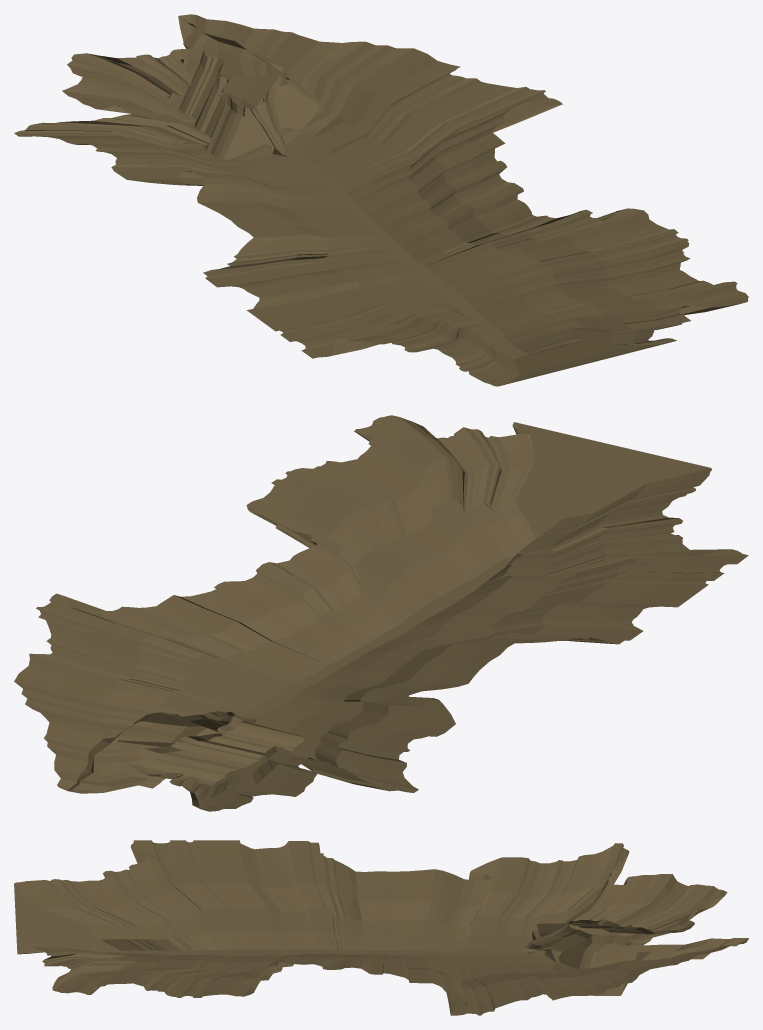
The model's file is montesinholayersDecim3.glb.
3 views of the same model, one above another, from view 1: azimuth 30°, elevation 25°; view 2: azimuth 150°, elevation 25°; view 3: azimuth 270°, elevation 25° (orthographic). The views are drawn at different scales.
Visible parts, largest first — view 1: Plane.002; view 2: Plane.002; view 3: Plane.002.
Part boxes in pixels (x1=…): Plane.002: x1=14, y1=14, x2=748, y2=386; Plane.002: x1=14, y1=415, x2=748, y2=811; Plane.002: x1=14, y1=840, x2=748, y2=1015.
Size of the model in its own units: 81.8 by 10.95 by 145.
